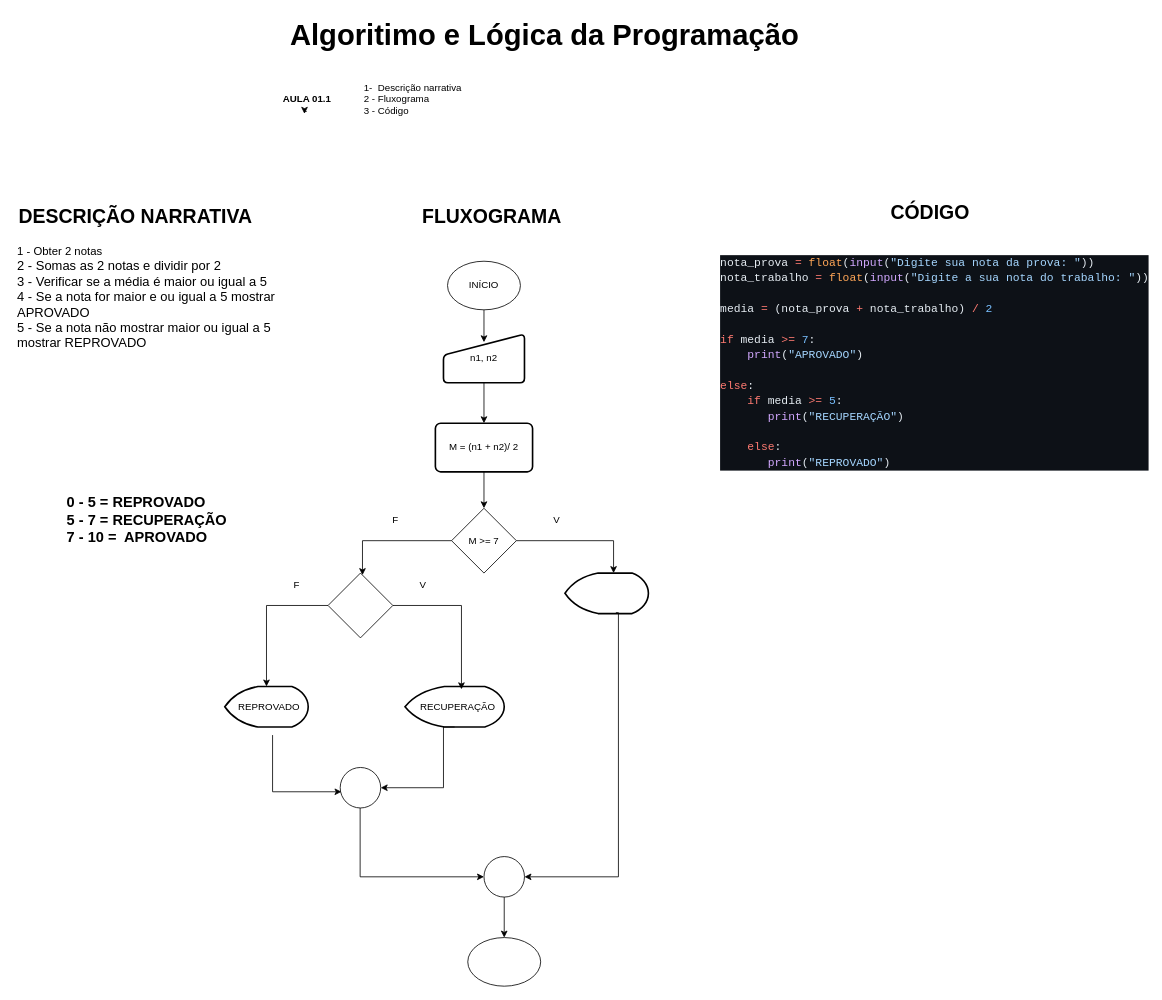
The diagram is 1162 pixels wide and 1000 high, and some of its shapes have lost their labels. Here are the shapes that lost their labels. From the top down, the centre of each, then its label:
At (360,605): "M >= 5".
At (606,593): "APROVADO".
At (504,961): "FIM".
